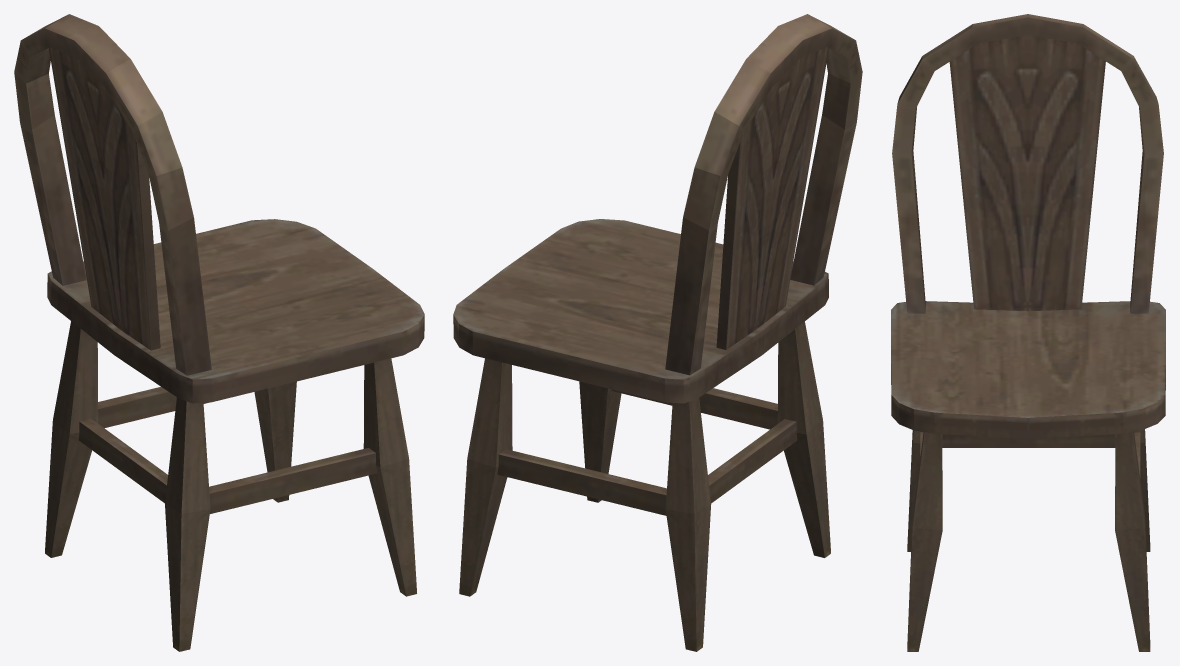
Rendered from bg_lut_lucastle_smallchair04_sm_artree.FBX.
3 renders of one model, left to right at view 1: azimuth 30°, elevation 25°; view 2: azimuth 150°, elevation 25°; view 3: azimuth 270°, elevation 25°, orthographic. The views are drawn at different scales.
Parts seen in each view (by area): view 1: bg_lut_lucastle_smallchair04_sm_artree; view 2: bg_lut_lucastle_smallchair04_sm_artree; view 3: bg_lut_lucastle_smallchair04_sm_artree.
Boxes of the visible parts, box(x1,y1,x2,y2) form: bg_lut_lucastle_smallchair04_sm_artree: box(14, 14, 424, 651); bg_lut_lucastle_smallchair04_sm_artree: box(453, 14, 862, 651); bg_lut_lucastle_smallchair04_sm_artree: box(891, 14, 1165, 651).
Bounding box in the file's own units: 43.72 × 81.1 × 38.58.
